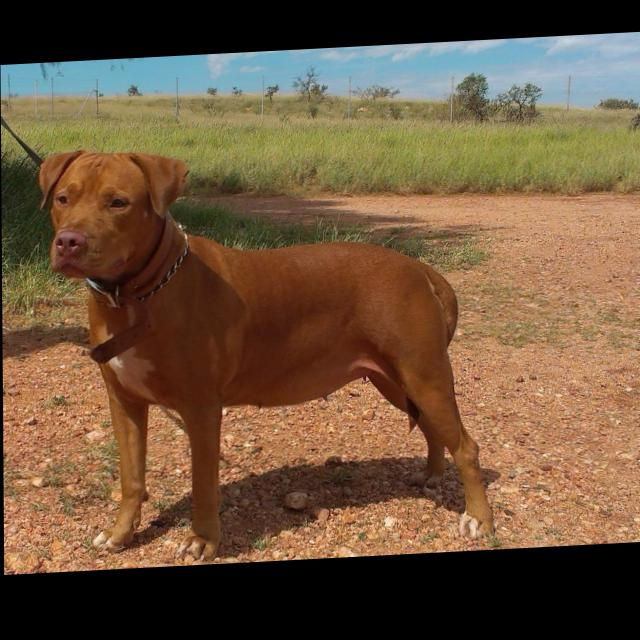dogue_de_bordeaux: (37, 133, 495, 573)
